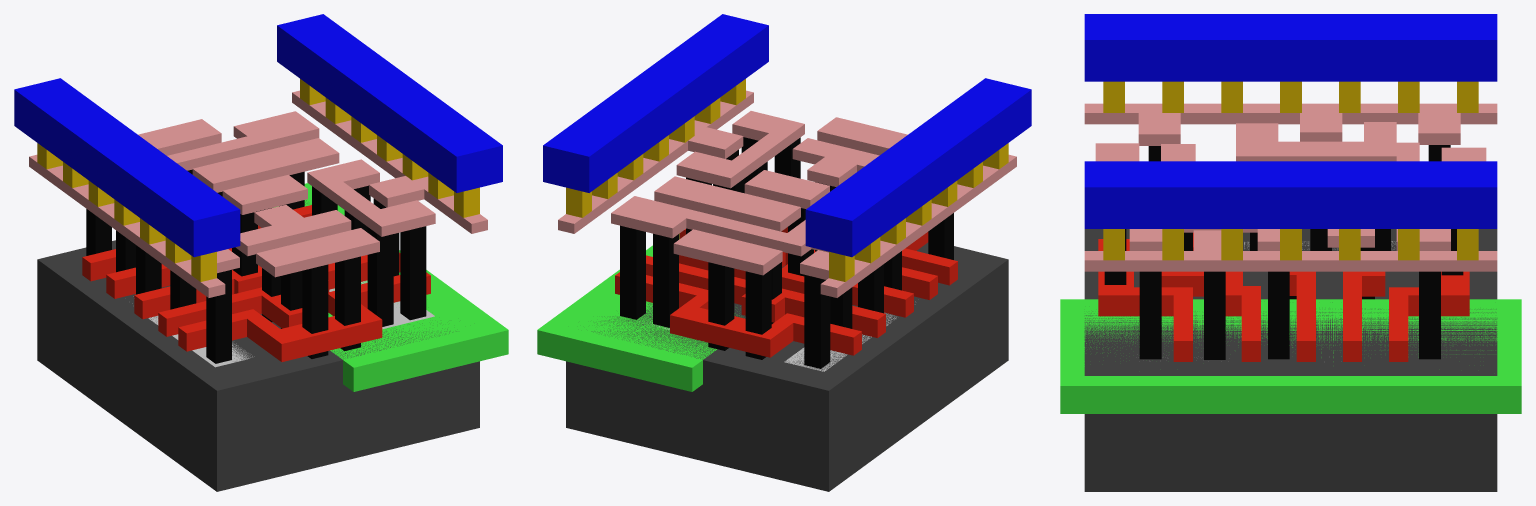
Rendered from sky130_fd_sc_hd__a2111oi_0.obj.
The picture shows the model from 3 angles, left to right: view 1: azimuth 30°, elevation 25°; view 2: azimuth 150°, elevation 25°; view 3: azimuth 270°, elevation 25°; orthographic projection. The views are drawn at different scales.
Visible parts, largest first — view 1: subs, metal1, li, licon, poly, nwell, mcon, diff; view 2: subs, metal1, li, licon, poly, nwell, mcon, diff; view 3: metal1, subs, nwell, li, poly, licon, mcon.
Part boxes in pixels (x1,y1,x2,y2): subs: [37, 200, 479, 491]; metal1: [14, 14, 502, 257]; li: [29, 90, 487, 297]; licon: [86, 169, 426, 363]; poly: [82, 205, 430, 361]; nwell: [274, 183, 508, 391]; mcon: [37, 79, 479, 281]; diff: [132, 296, 254, 367]; subs: [566, 242, 1008, 491]; metal1: [543, 14, 1031, 257]; li: [558, 90, 1016, 297]; licon: [620, 137, 953, 368]; poly: [615, 227, 957, 357]; nwell: [537, 234, 741, 391]; mcon: [566, 79, 1008, 281]; diff: [784, 301, 915, 371]; metal1: [1084, 14, 1497, 228]; subs: [1084, 229, 1497, 491]; nwell: [1060, 299, 1521, 413]; li: [1084, 103, 1497, 271]; poly: [1098, 232, 1469, 361]; licon: [1104, 145, 1463, 359]; mcon: [1103, 81, 1478, 260].
Bounding box in the file's own units: 3.2 × 2.74 × 3.6.
